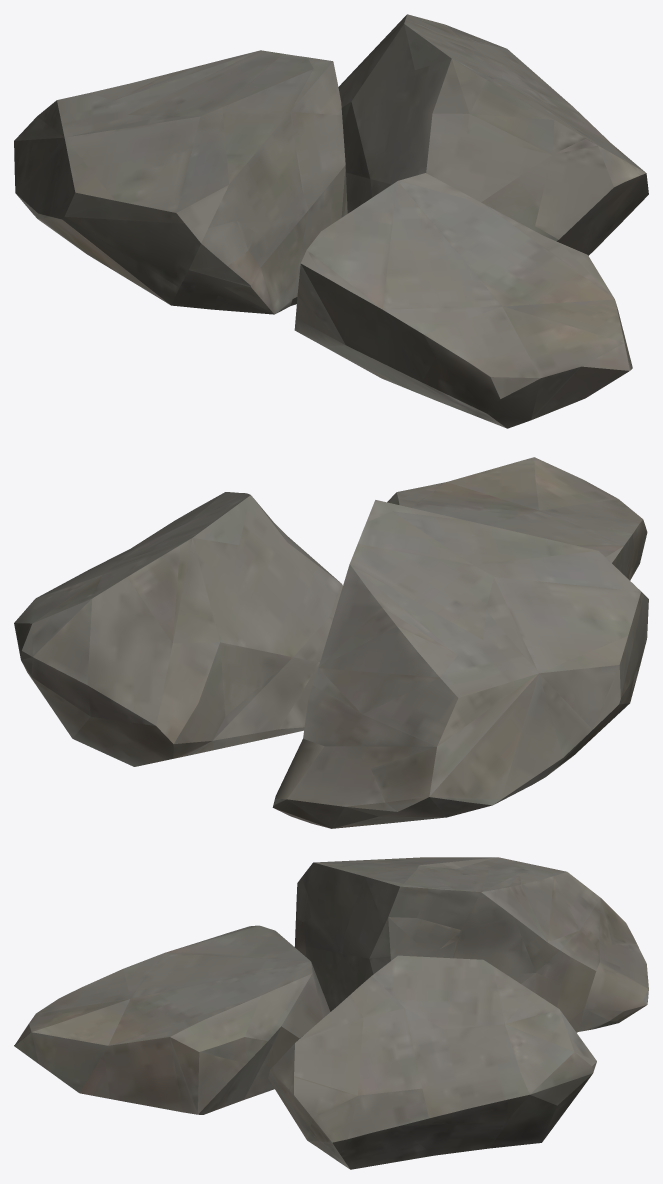
Rendered from rock_3.glb.
3 renders of one model, top to bottom at view 1: azimuth 30°, elevation 25°; view 2: azimuth 150°, elevation 25°; view 3: azimuth 270°, elevation 25°, orthographic. The views are drawn at different scales.
Size of the model in its own units: 1.52 by 0.6544 by 1.9.
1 material, 1 textured.
